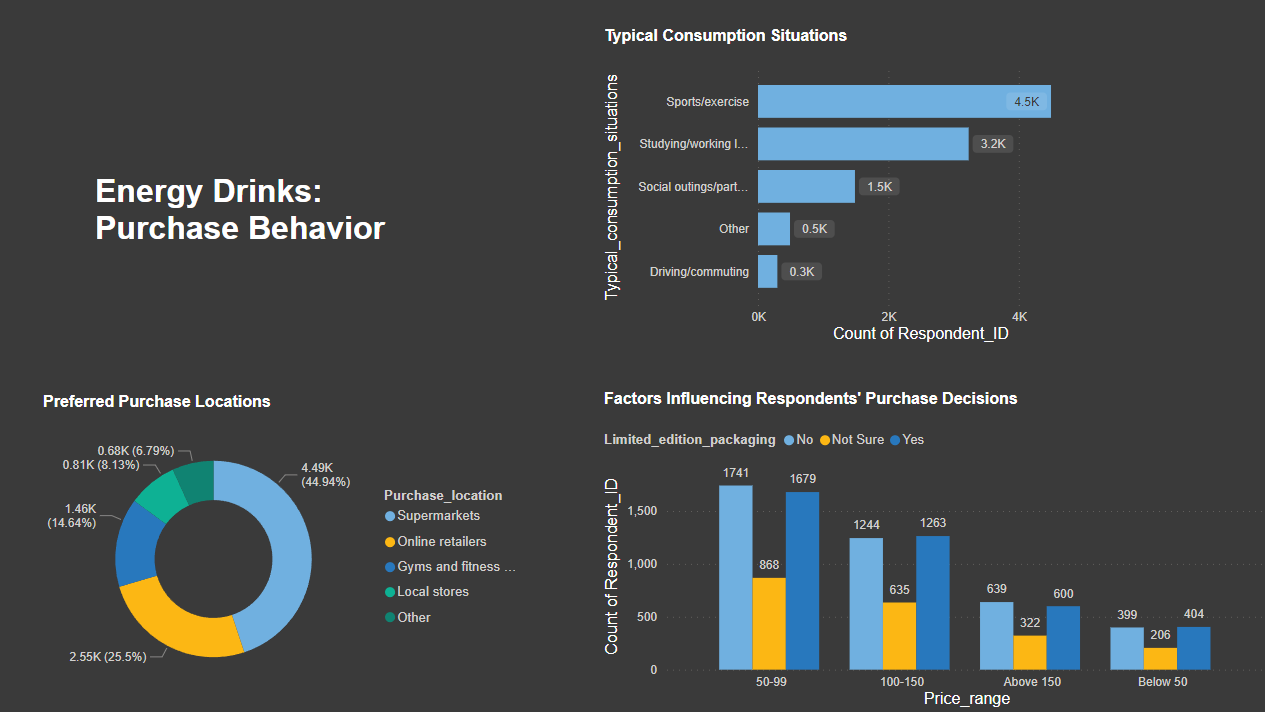

The page's visual inventory and layout, read from the dashboard file:
{"tool":"powerbi","page":{"name":"Purchase Behavior","canvas":[1280,720],"ordinal":3},"visuals":[{"type":"barChart","fields":{"Y":["CountNonNull(fact_survey_responses.Respondent_ID)"],"Category":["fact_survey_responses.Typical_consumption_situations"]},"box":[607,63,498,292],"z":0},{"type":"donutChart","fields":{"Category":["fact_survey_responses.Purchase_location"],"Y":["CountNonNull(fact_survey_responses.Respondent_ID)"]},"box":[45.7,421.2,498,291.8],"z":1000},{"type":"clusteredColumnChart","fields":{"Category":["fact_survey_responses.Price_range"],"Y":["CountNonNull(fact_survey_responses.Respondent_ID)"],"Series":["fact_survey_responses.Limited_edition_packaging"]},"box":[606.9,428,673.1,291.8],"z":2000},{"type":"textbox","box":[98.2,176,344.3,141],"z":3000},{"type":"textbox","box":[46,396,348,32],"z":4000},{"type":"textbox","box":[607,30,344,33],"z":5000},{"type":"textbox","box":[607,393,434,37],"z":6000}]}

Visuals, with their boxes in screenshot pixels (x1, y1, x2, y2), scaled from the page's 1280x720 canvas onto the 1265x712 screenshot:
barChart - CountNonNull(fact_survey_responses.Respondent_ID) x fact_survey_responses.Typical_consumption_situations: rect(600, 62, 1092, 351)
donutChart - fact_survey_responses.Purchase_location x CountNonNull(fact_survey_responses.Respondent_ID): rect(45, 417, 537, 705)
clusteredColumnChart - fact_survey_responses.Price_range x CountNonNull(fact_survey_responses.Respondent_ID): rect(600, 423, 1264, 711)
textbox: rect(97, 174, 437, 313)
textbox: rect(45, 392, 389, 423)
textbox: rect(600, 30, 940, 62)
textbox: rect(600, 389, 1029, 425)
